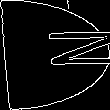N_W: (4, 34, 106, 76)
